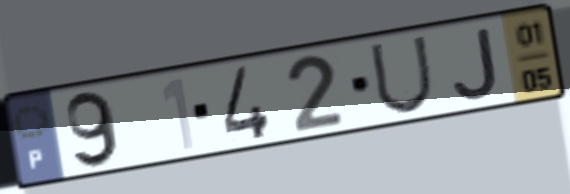1: (159, 76, 198, 152)
2: (286, 50, 351, 136)
4: (221, 62, 273, 142)
9: (63, 88, 123, 170)
J: (449, 24, 503, 103)
U: (366, 33, 436, 117)
